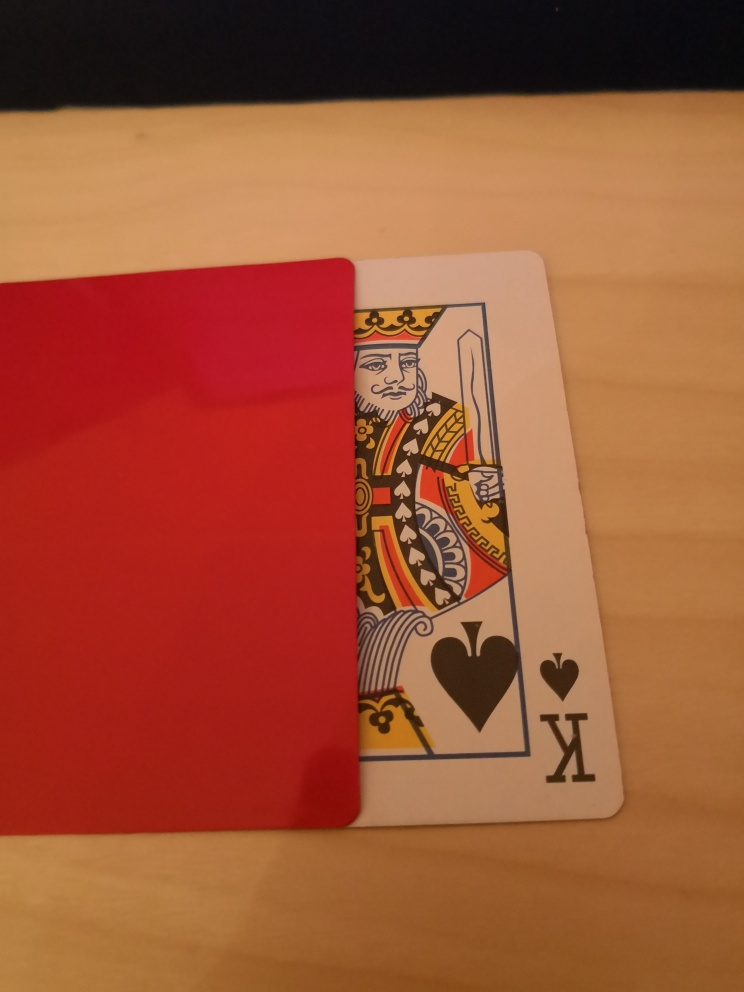king: (346, 250, 626, 830)
